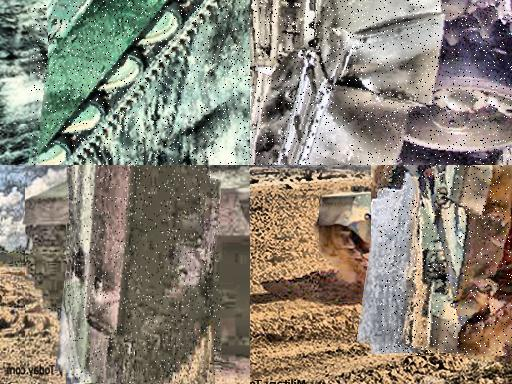tanks: (251, 1, 512, 166), (69, 166, 222, 384), (34, 1, 218, 166), (381, 166, 512, 356)
